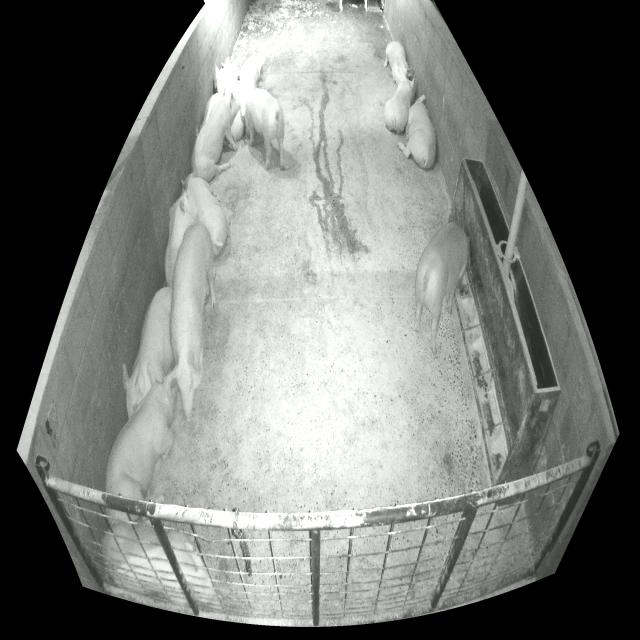pig: (163, 215, 216, 421), (102, 522, 218, 609), (106, 364, 178, 501), (414, 222, 468, 354), (123, 287, 174, 420), (191, 87, 241, 182), (182, 167, 231, 258), (246, 89, 285, 171), (164, 189, 195, 291), (397, 95, 436, 169), (385, 75, 415, 134), (239, 48, 265, 116), (384, 41, 413, 85), (215, 58, 241, 100), (196, 93, 221, 135)
